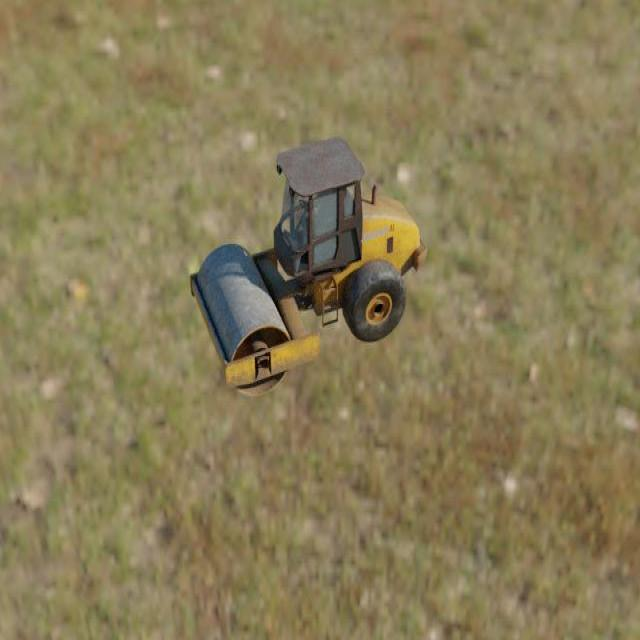Roller: (189, 136, 427, 396)
